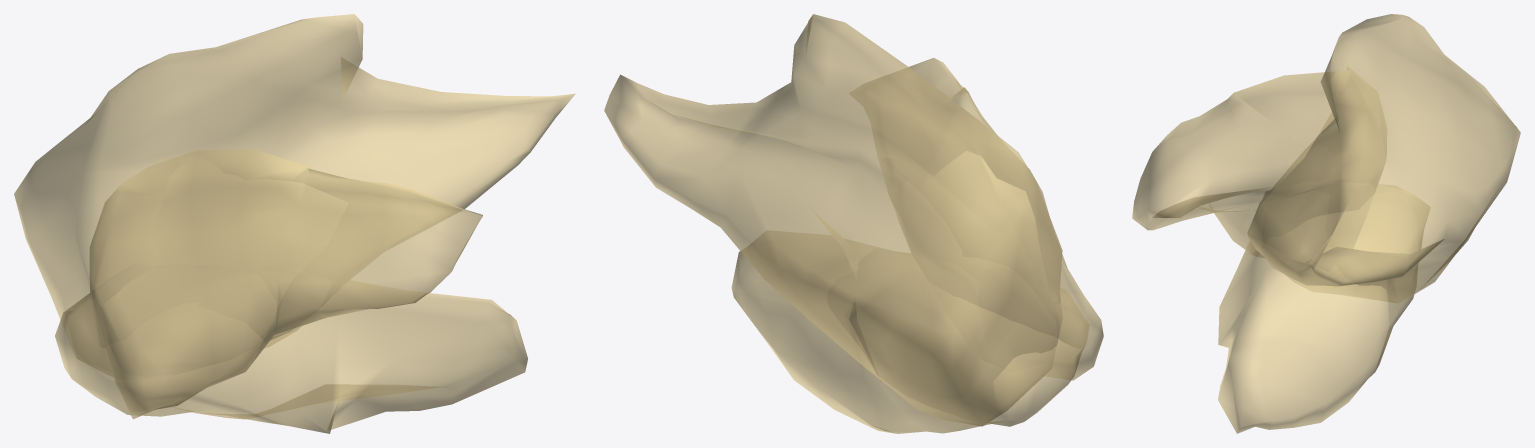
The picture shows the model from 3 angles, left to right: view 1: azimuth 30°, elevation 25°; view 2: azimuth 150°, elevation 25°; view 3: azimuth 270°, elevation 25°; orthographic projection. The views are drawn at different scales.
Visible parts, largest first — view 1: SM_RoughRock01_low.004; view 2: SM_RoughRock01_low.004; view 3: SM_RoughRock01_low.004.
Boxes of the visible parts, x1,y1,x2,y2 form: SM_RoughRock01_low.004: (14, 14, 575, 433); SM_RoughRock01_low.004: (604, 14, 1103, 433); SM_RoughRock01_low.004: (1132, 14, 1520, 433).
Bounding box in the file's own units: 2.58 × 2.09 × 2.01.
